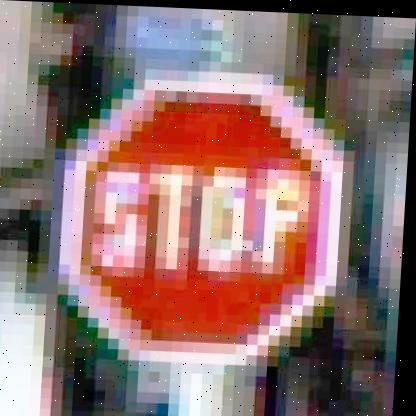Stop Sign: (74, 67, 355, 367)
